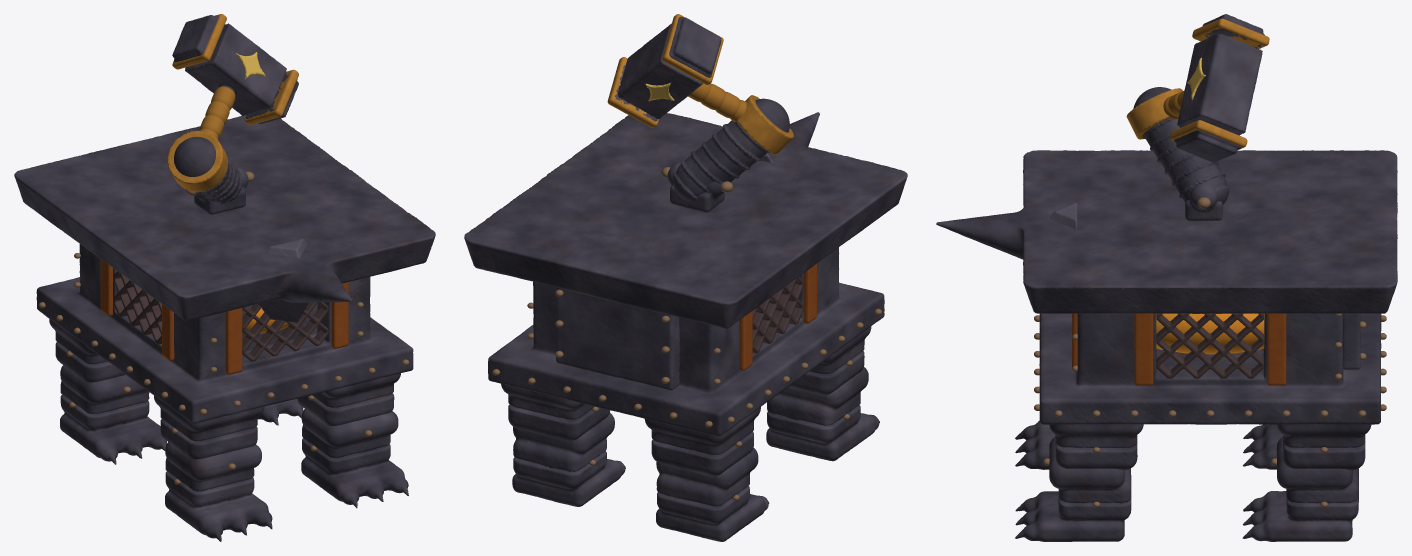
File: mother-anvil-sculpt.glb
The picture shows the model from 3 angles, left to right: view 1: azimuth 30°, elevation 25°; view 2: azimuth 150°, elevation 25°; view 3: azimuth 270°, elevation 25°; orthographic projection. The views are drawn at different scales.
Parts seen in each view (by area): view 1: mother-anvil_sculpt; view 2: mother-anvil_sculpt; view 3: mother-anvil_sculpt.
Part boxes in pixels (x1=…): mother-anvil_sculpt: x1=14, y1=14, x2=435, y2=541; mother-anvil_sculpt: x1=464, y1=14, x2=907, y2=541; mother-anvil_sculpt: x1=936, y1=14, x2=1397, y2=541.
Size of the model in its own units: 1.02 by 1.65 by 1.46.
